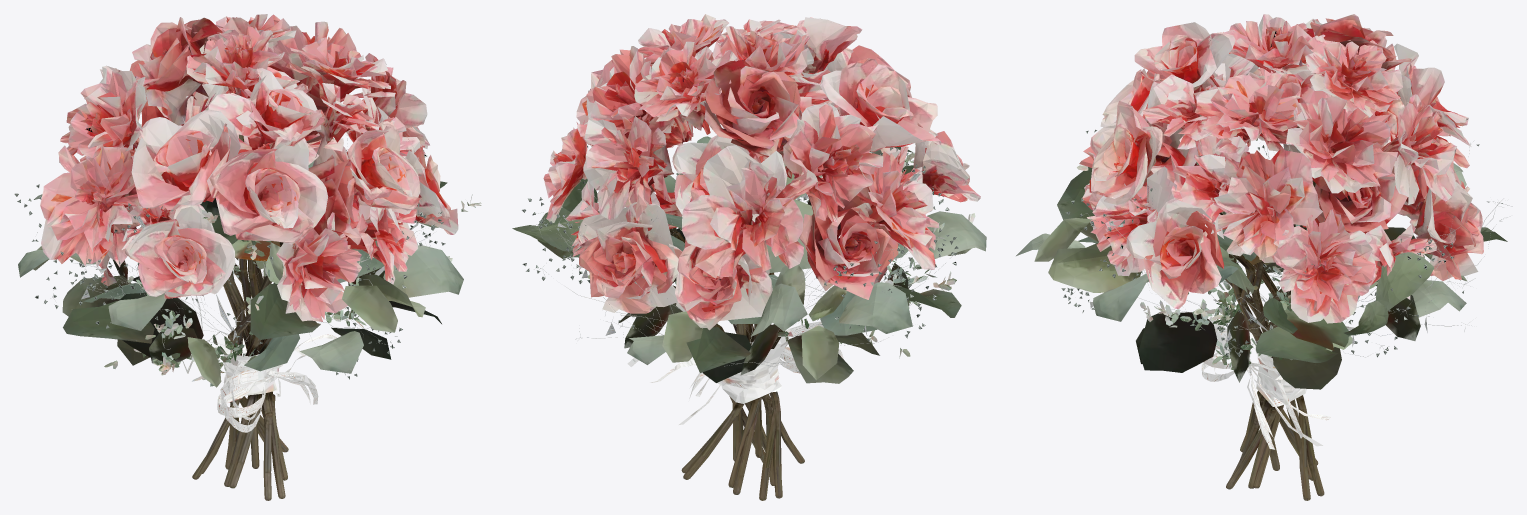
Rendered from flower-bouquet.79f51c7f.glb.
3 renders of one model, left to right at view 1: azimuth 30°, elevation 25°; view 2: azimuth 150°, elevation 25°; view 3: azimuth 270°, elevation 25°, orthographic.
Visible parts, largest first — view 1: Leaves_002_Leaves6_0, Petal_002_Petals2_0, Petal_010_Petals10_0, Petal_012_Petals12_0, Petal_009_Petals8_0, Petal_005_Petals5_0, Petal_011_Petals11_0, Petal_004_Petals4_0, Stems_Stems_0, Petal_007_Petals7_0, Petal_008_Petals9_0, Ribbons_001_Ribbons1_0 (+7 smaller); view 2: Leaves_002_Leaves6_0, Petal_001_Petals1_0, Petal_009_Petals8_0, Petal_003_Petals3_0, Petal_002_Petals2_0, Petal_007_Petals7_0, Petal_012_Petals12_0, Petal_010_Petals10_0, Stems_Stems_0, Petal_011_Petals11_0, Ribbons_001_Ribbons1_0, Petal_004_Petals4_0 (+7 smaller); view 3: Petal_007_Petals7_0, Leaves_002_Leaves6_0, Petal_011_Petals11_0, Petal_006_Petals6_0, Petal_002_Petals2_0, Petal_001_Petals1_0, Petal_013_Petals14_0, Leaves_001_Leaves1_0, Petal_009_Petals8_0, Stems_Stems_0, Petal_010_Petals10_0, Petal_012_Petals12_0 (+7 smaller).
Part boxes in pixels (<box>): Leaves_002_Leaves6_0: <box>18,194,463,387</box>; Petal_002_Petals2_0: <box>68,21,363,321</box>; Petal_010_Petals10_0: <box>40,37,395,267</box>; Petal_012_Petals12_0: <box>131,67,324,210</box>; Petal_009_Petals8_0: <box>99,17,370,286</box>; Petal_005_Petals5_0: <box>209,132,328,243</box>; Petal_011_Petals11_0: <box>121,83,420,284</box>; Petal_004_Petals4_0: <box>125,204,235,298</box>; Stems_Stems_0: <box>192,134,288,500</box>; Petal_007_Petals7_0: <box>184,14,425,154</box>; Petal_008_Petals9_0: <box>347,121,420,214</box>; Ribbons_001_Ribbons1_0: <box>215,308,347,432</box>; Leaves_002_Leaves6_0: <box>618,147,986,383</box>; Petal_001_Petals1_0: <box>583,116,817,278</box>; Petal_009_Petals8_0: <box>624,60,899,299</box>; Petal_003_Petals3_0: <box>578,202,772,330</box>; Petal_002_Petals2_0: <box>577,46,900,222</box>; Petal_007_Petals7_0: <box>543,26,813,222</box>; Petal_012_Petals12_0: <box>694,17,941,152</box>; Petal_010_Petals10_0: <box>638,14,938,269</box>; Stems_Stems_0: <box>669,199,811,500</box>; Petal_011_Petals11_0: <box>565,19,922,270</box>; Ribbons_001_Ribbons1_0: <box>627,321,843,424</box>; Petal_004_Petals4_0: <box>913,122,980,202</box>; Petal_007_Petals7_0: <box>1223,14,1402,323</box>; Leaves_002_Leaves6_0: <box>1016,161,1507,389</box>; Petal_011_Petals11_0: <box>1089,57,1436,299</box>; Petal_006_Petals6_0: <box>1211,67,1322,262</box>; Petal_002_Petals2_0: <box>1079,19,1397,241</box>; Petal_001_Petals1_0: <box>1381,43,1471,204</box>; Petal_013_Petals14_0: <box>1126,99,1404,308</box>; Leaves_001_Leaves1_0: <box>1216,228,1434,362</box>; Petal_009_Petals8_0: <box>1133,14,1411,233</box>; Stems_Stems_0: <box>1219,180,1378,500</box>; Petal_010_Petals10_0: <box>1194,68,1302,153</box>; Petal_012_Petals12_0: <box>1134,22,1314,102</box>.
Bounding box in the file's own units: 0.3586 × 0.3863 × 0.3807.
20 materials, 20 textured.
